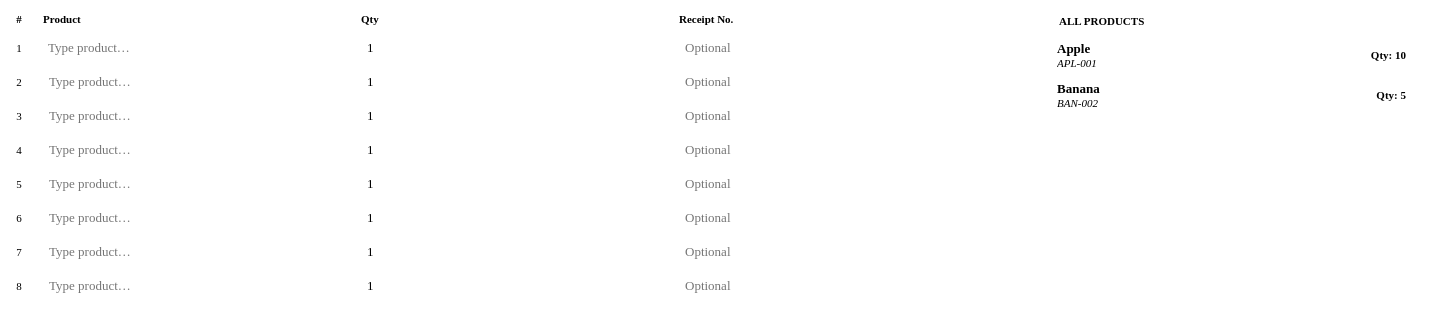
LinearGridEntry — keyboard model › clicking a panel item fills the product field
The image size is (1433, 310).
Click the option with test id "search-result-P1": click(1074, 48) [1045,35,1425,75]
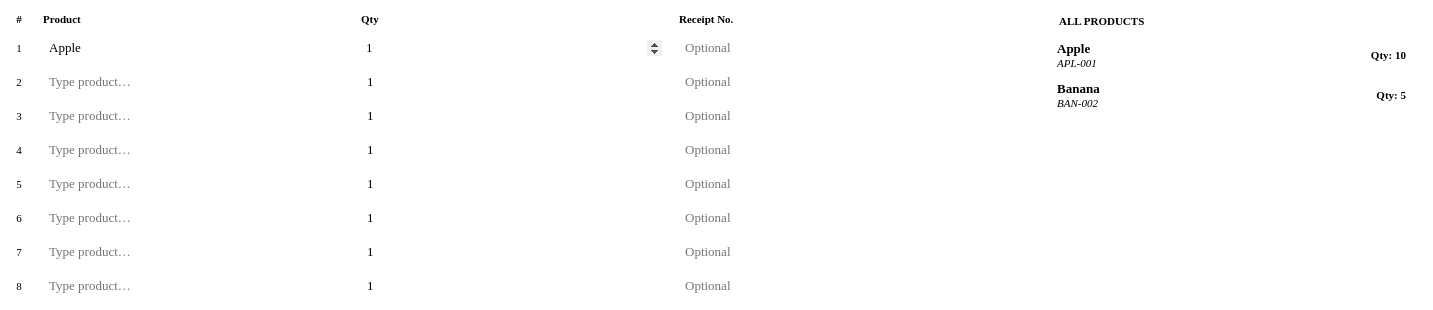
expect the field with test id "cell-0-product" holds "Apple": met, box [41,34,351,62]
